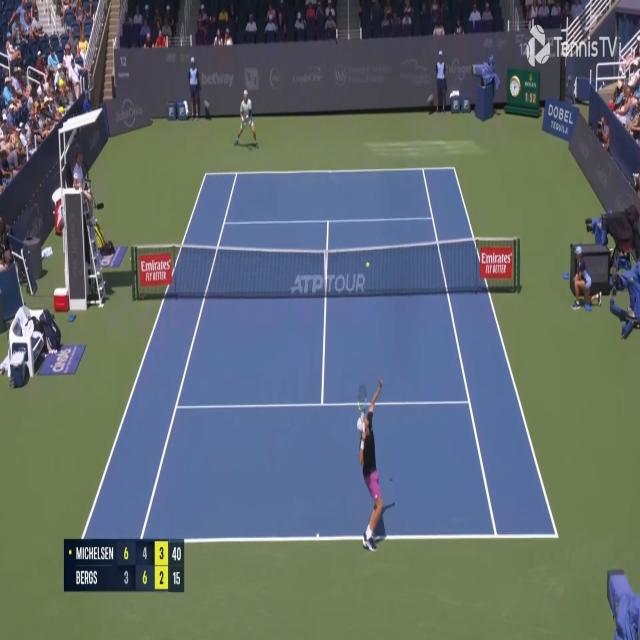tennis-player: (356, 373, 396, 556), (234, 88, 260, 149)
